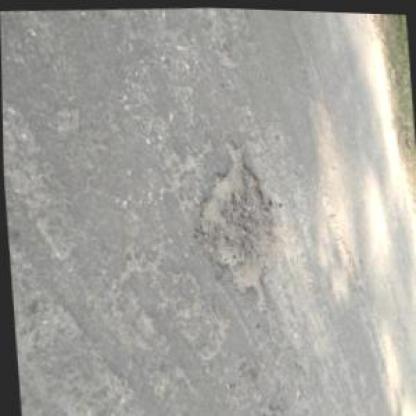pothole: (188, 132, 282, 313)
